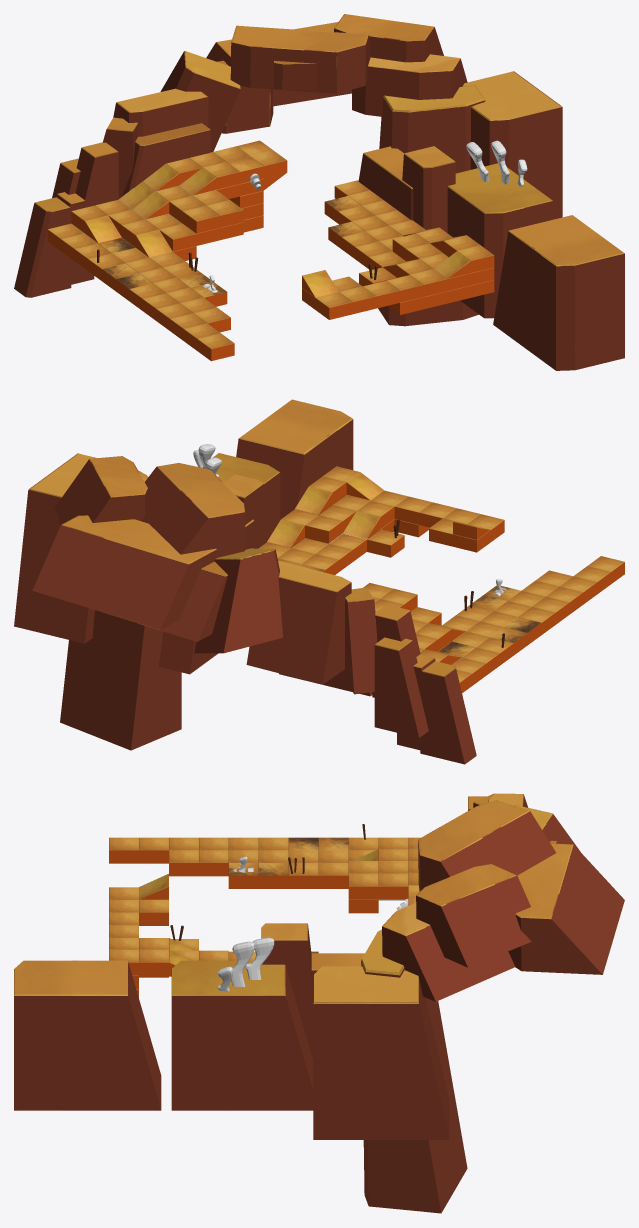
Rendered from Map.fbx.
3 renders of one model, top to bottom at view 1: azimuth 30°, elevation 25°; view 2: azimuth 150°, elevation 25°; view 3: azimuth 270°, elevation 25°, orthographic. The views are drawn at different scales.
Visible parts, largest first — view 1: Background.002, DecorBones1.002, TileWild1.097, TileWild1.104, TileWild1.121, TileWild4.013, TileWild1.106, TileWild4.014, TileWild4.019, TileWild4.015, TileWild4.018, TileWild4.023 (+31 smaller); view 2: Background.002, TileWild1.138, TileWild1.154, TileWild4.022, TileWild4.020, TileWild4.021, TileWild4.023, TileWild1.125, TileWild1.124, TileWild1.123, DecorBones1.002, TileWild1.091 (+16 smaller); view 3: Background.002, DecorBones1.002, TileWild1.108, TileWild1.107, TileWild1.094, TileWild1.095, TileWild1.096, TileWild1.097, TileWild1.140, TileWild1.087, TileWild2.008, TileWild1.123 (+3 smaller).
Boxes of the visible parts, x1=… form: Background.002: x1=14, y1=14, x2=624, y2=370; DecorBones1.002: x1=466, y1=140, x2=527, y2=186; TileWild1.097: x1=197, y1=333, x2=234, y2=361; TileWild1.104: x1=183, y1=206, x2=220, y2=233; TileWild1.121: x1=315, y1=292, x2=352, y2=319; TileWild4.013: x1=135, y1=230, x2=172, y2=257; TileWild1.106: x1=159, y1=224, x2=196, y2=251; TileWild4.014: x1=85, y1=215, x2=121, y2=243; TileWild4.019: x1=302, y1=270, x2=338, y2=297; TileWild4.015: x1=132, y1=191, x2=169, y2=219; TileWild4.018: x1=179, y1=168, x2=216, y2=195; TileWild4.023: x1=434, y1=251, x2=470, y2=278; Background.002: x1=14, y1=399, x2=476, y2=764; TileWild1.138: x1=305, y1=515, x2=342, y2=543; TileWild1.154: x1=367, y1=529, x2=404, y2=557; TileWild4.022: x1=295, y1=486, x2=332, y2=514; TileWild4.020: x1=343, y1=511, x2=380, y2=539; TileWild4.021: x1=267, y1=519, x2=304, y2=547; TileWild4.023: x1=346, y1=472, x2=384, y2=500; TileWild1.125: x1=394, y1=496, x2=431, y2=524; TileWild1.124: x1=418, y1=502, x2=456, y2=527; TileWild1.123: x1=429, y1=518, x2=460, y2=546; DecorBones1.002: x1=193, y1=444, x2=221, y2=477; TileWild1.091: x1=532, y1=596, x2=569, y2=624; Background.002: x1=14, y1=793, x2=624, y2=1213; DecorBones1.002: x1=217, y1=937, x2=274, y2=991; TileWild1.108: x1=348, y1=873, x2=378, y2=899; TileWild1.107: x1=378, y1=873, x2=408, y2=899; TileWild1.094: x1=199, y1=850, x2=228, y2=876; TileWild1.095: x1=169, y1=850, x2=198, y2=876; TileWild1.096: x1=139, y1=837, x2=168, y2=863; TileWild1.097: x1=109, y1=837, x2=138, y2=863; TileWild1.140: x1=139, y1=949, x2=168, y2=975; TileWild1.087: x1=318, y1=863, x2=348, y2=888; TileWild2.008: x1=258, y1=863, x2=288, y2=888; TileWild1.123: x1=139, y1=900, x2=168, y2=925.
Bounding box in the file's own units: 1968 × 1119 × 2040.
